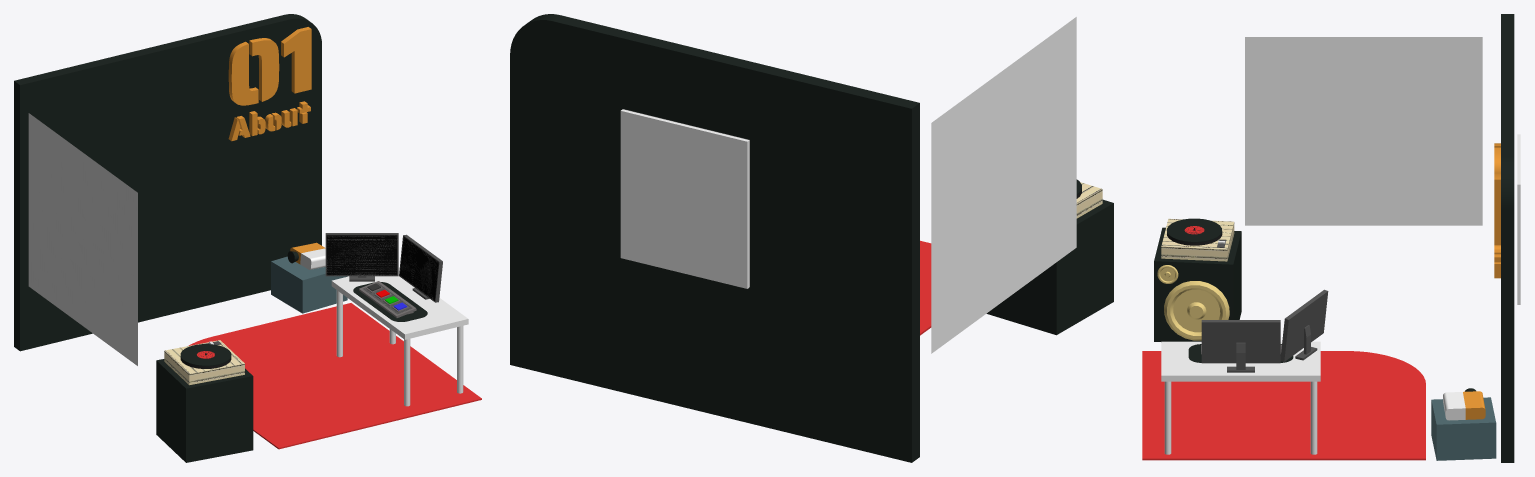
File: maxtower_01.dae
3 views of the same model, side by side, from view 1: azimuth 30°, elevation 25°; view 2: azimuth 150°, elevation 25°; view 3: azimuth 270°, elevation 25° (orthographic). The views are drawn at different scales.
Visible parts, largest first — view 1: group_41, group_24, group_38, group_30, instance_0, group_23 (×2), group_3, group_26, group_11 (×2), group_33, group_35, group_19; view 2: group_41, group_38, group_39, group_30, group_24, group_33; view 3: group_38, group_24, group_41, group_3, group_30, group_11, group_26, group_31 (×3), group_23, group_33, group_27 (×2), group_35 (+4 smaller).
Boxes of the visible parts, x1=… form: group_41: x1=14, y1=14, x2=321, y2=351; group_24: x1=188, y1=303, x2=481, y2=449; group_38: x1=28, y1=113, x2=137, y2=365; group_30: x1=156, y1=359, x2=253, y2=462; instance_0: x1=228, y1=27, x2=311, y2=105; group_23 (×2): x1=325, y1=233, x2=398, y2=276; group_3: x1=331, y1=268, x2=468, y2=339; group_26: x1=271, y1=256, x2=347, y2=313; group_11 (×2): x1=399, y1=234, x2=442, y2=302; group_33: x1=164, y1=340, x2=244, y2=385; group_35: x1=180, y1=344, x2=231, y2=366; group_19: x1=353, y1=282, x2=427, y2=321; group_41: x1=510, y1=14, x2=919, y2=462; group_38: x1=931, y1=17, x2=1076, y2=353; group_39: x1=620, y1=109, x2=749, y2=288; group_30: x1=986, y1=199, x2=1113, y2=335; group_24: x1=920, y1=240, x2=931, y2=335; group_33: x1=1076, y1=182, x2=1102, y2=218; group_38: x1=1245, y1=37, x2=1482, y2=225; group_24: x1=1142, y1=351, x2=1425, y2=460; group_41: x1=1501, y1=14, x2=1514, y2=462; group_3: x1=1161, y1=341, x2=1320, y2=381; group_30: x1=1154, y1=227, x2=1241, y2=341; group_11: x1=1201, y1=320, x2=1280, y2=363; group_26: x1=1431, y1=397, x2=1496, y2=460; group_31 (×3): x1=1164, y1=281, x2=1229, y2=340; group_23: x1=1280, y1=289, x2=1328, y2=361; group_33: x1=1161, y1=218, x2=1234, y2=261; group_27 (×2): x1=1443, y1=391, x2=1485, y2=420; group_35: x1=1167, y1=218, x2=1222, y2=242.
Bounding box in the file's own units: 114 × 114 × 96.
15 materials, 1 textured.
